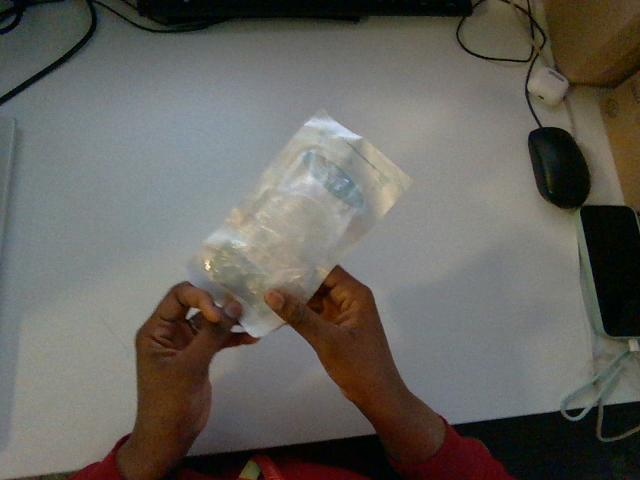gallipot: (187, 112, 410, 336)
